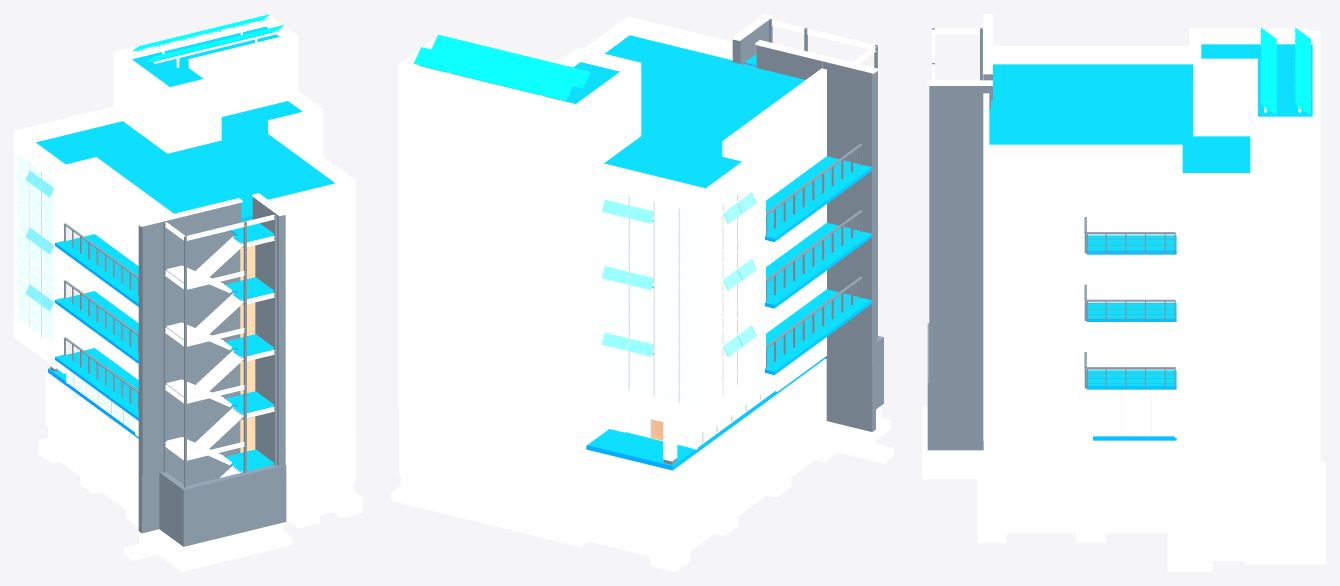
Rendered from build1.gltf.
The picture shows the model from 3 angles, left to right: view 1: azimuth 30°, elevation 25°; view 2: azimuth 150°, elevation 25°; view 3: azimuth 270°, elevation 25°; orthographic projection. The views are drawn at different scales.
Visible parts, largest first — view 1: IfcSlab-7816571494402, IfcWallStandardCase-7810548473856, IfcBuildingElementPart-7810502336514, IfcBuildingElementPart-7816701517825, IfcBuildingElementPart-7811836125186, IfcBuildingElementPart-7813262188545, IfcBuildingElementPart-7810724634625, IfcBuildingElementPart-7814713417729, IfcBuildingElementPart-7810472976385, IfcBuildingElementPart-7816672157696, IfcBuildingElementPart-7816659574786, IfcBuildingElementPart-7814696640513 (+68 smaller); view 2: IfcSlab-7816571494402, IfcBuildingElementPart-7815543889921, IfcBuildingElementPart-7814088466433, IfcBuildingElementPart-7812767260673, IfcBuildingElementPart-7811332808705, IfcBuildingElementPart-7816680546305, IfcBuildingElementPart-7810418450433, IfcBuildingElementPart-7810502336514, IfcBuildingElementPart-7810498142208, IfcBuildingElementPart-7814696640513, IfcBuildingElementPart-7816659574786, IfcSlab-7815501946881 (+42 smaller); view 3: IfcSlab-7816571494402, IfcBuildingElementPart-7810519113730, IfcBuildingElementPart-7810745606145, IfcBuildingElementPart-7813278965762, IfcBuildingElementPart-7814734389249, IfcBuildingElementPart-7811878068225, IfcBuildingElementPart-7814746972161, IfcBuildingElementPart-7814839246849, IfcBuildingElementPart-7813425766400, IfcBuildingElementPart-7810766577665, IfcBuildingElementPart-7811991314433, IfcBuildingElementPart-7810485559297 (+48 smaller).
Boxes of the visible parts, x1,y1,x2,y2 form: IfcSlab-7816571494402: (36, 101, 334, 220); IfcWallStandardCase-7810548473856: (183, 464, 284, 546); IfcBuildingElementPart-7810502336514: (46, 372, 138, 492); IfcBuildingElementPart-7816701517825: (207, 44, 297, 116); IfcBuildingElementPart-7811836125186: (285, 315, 355, 388); IfcBuildingElementPart-7813262188545: (285, 258, 355, 331); IfcBuildingElementPart-7810724634625: (285, 372, 355, 445); IfcBuildingElementPart-7814713417729: (285, 201, 355, 274); IfcBuildingElementPart-7810472976385: (285, 429, 355, 498); IfcBuildingElementPart-7816672157696: (167, 86, 221, 153); IfcBuildingElementPart-7816659574786: (113, 61, 167, 153); IfcBuildingElementPart-7814696640513: (94, 180, 148, 265); IfcSlab-7816571494402: (604, 35, 805, 188); IfcBuildingElementPart-7815543889921: (398, 141, 578, 251); IfcBuildingElementPart-7814088466433: (398, 208, 578, 318); IfcBuildingElementPart-7812767260673: (398, 274, 578, 384); IfcBuildingElementPart-7811332808705: (398, 341, 578, 451); IfcBuildingElementPart-7816680546305: (398, 75, 578, 185); IfcBuildingElementPart-7810418450433: (398, 407, 578, 517); IfcBuildingElementPart-7810502336514: (673, 359, 826, 532); IfcBuildingElementPart-7810498142208: (586, 449, 673, 533); IfcBuildingElementPart-7814696640513: (754, 93, 826, 200); IfcBuildingElementPart-7816659574786: (578, 73, 641, 184); IfcSlab-7815501946881: (765, 156, 871, 241); IfcSlab-7816571494402: (989, 64, 1250, 172); IfcBuildingElementPart-7810519113730: (983, 440, 1176, 504); IfcBuildingElementPart-7810745606145: (983, 374, 1092, 441); IfcBuildingElementPart-7813278965762: (983, 238, 1086, 306); IfcBuildingElementPart-7814734389249: (983, 171, 1086, 238); IfcBuildingElementPart-7811878068225: (983, 306, 1086, 373); IfcBuildingElementPart-7814746972161: (1086, 171, 1176, 235); IfcBuildingElementPart-7814839246849: (1176, 199, 1251, 266); IfcBuildingElementPart-7813425766400: (1176, 267, 1251, 334); IfcBuildingElementPart-7810766577665: (1176, 402, 1251, 469); IfcBuildingElementPart-7811991314433: (1176, 334, 1251, 401); IfcBuildingElementPart-7810485559297: (1176, 469, 1251, 532).
Size of the model in its own units: 19.8 by 26.54 by 20.55.
